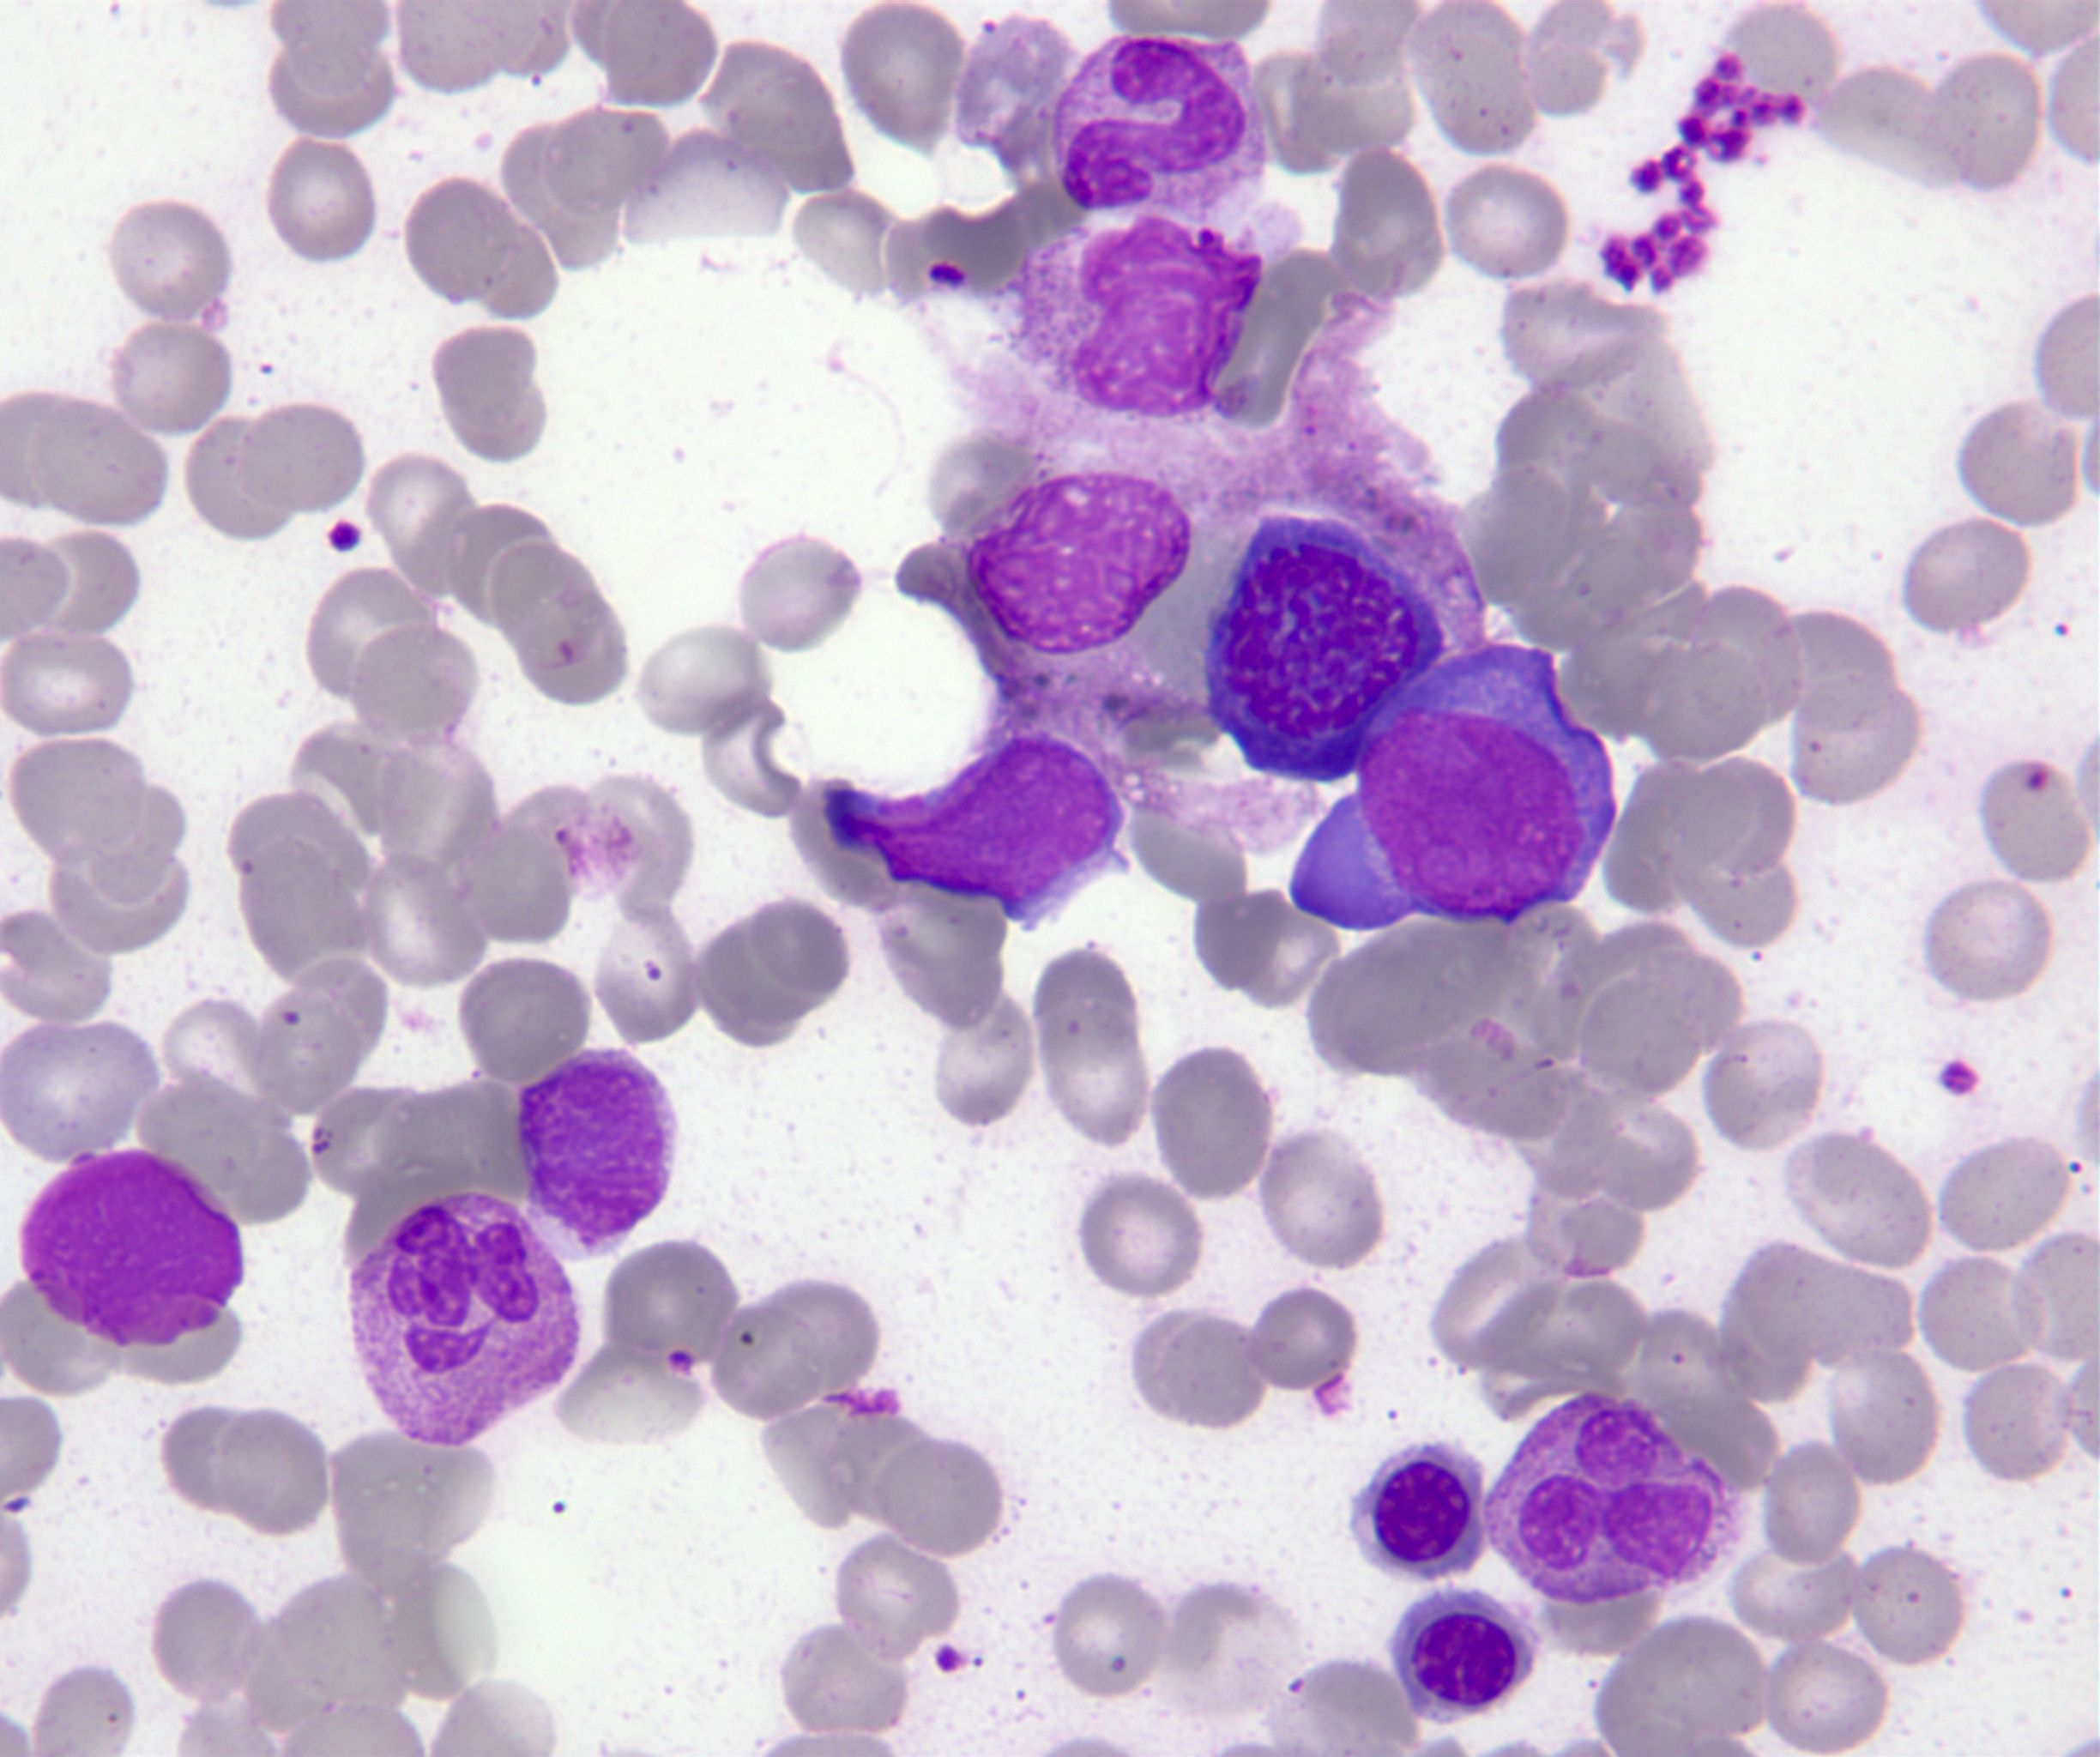1: (1350, 635, 1622, 933)
22: (1203, 506, 1451, 790)
24: (1387, 1586, 1545, 1731), (1345, 1439, 1486, 1584)
5: (1047, 28, 1275, 211)
6: (340, 1190, 590, 1455), (1479, 1391, 1751, 1609)
x: (996, 211, 1272, 420), (14, 1145, 248, 1350), (958, 468, 1198, 667), (513, 1040, 685, 1268)
